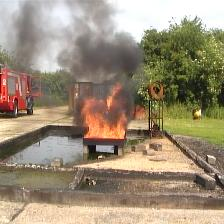fire: (80, 84, 126, 139)
